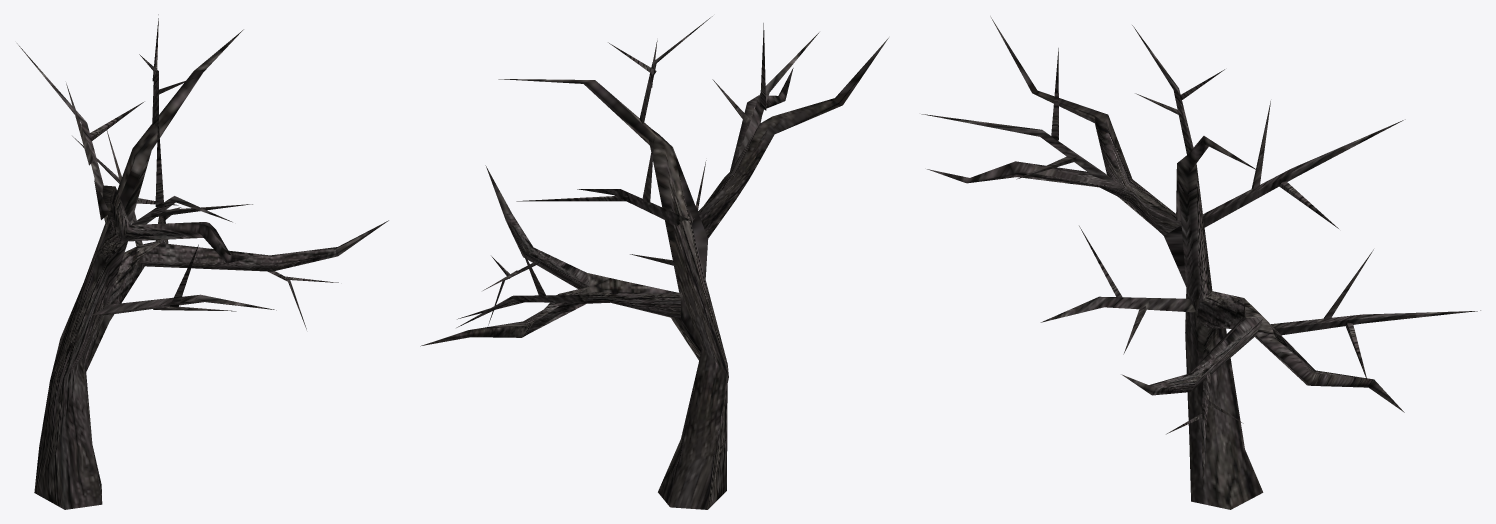
3 views of the same model, side by side, from view 1: azimuth 30°, elevation 25°; view 2: azimuth 150°, elevation 25°; view 3: azimuth 270°, elevation 25° (orthographic). The views are drawn at different scales.
Parts seen in each view (by area): view 1: SMDImport; view 2: SMDImport; view 3: SMDImport.
Boxes of the visible parts, left/top/right/bottom form: SMDImport: left=17, top=14, right=388, bottom=509; SMDImport: left=420, top=16, right=888, bottom=509; SMDImport: left=921, top=16, right=1480, bottom=509.
Size of the model in its own units: 401 by 500 by 530.
